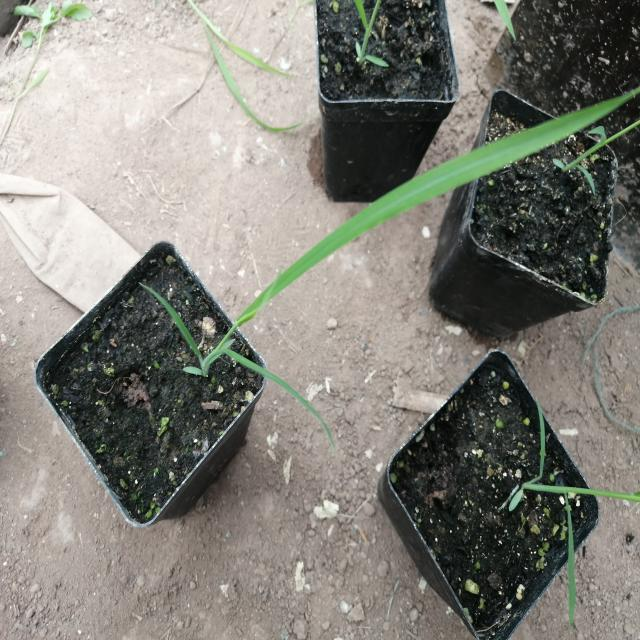crabgrass: (159, 86, 633, 401)
